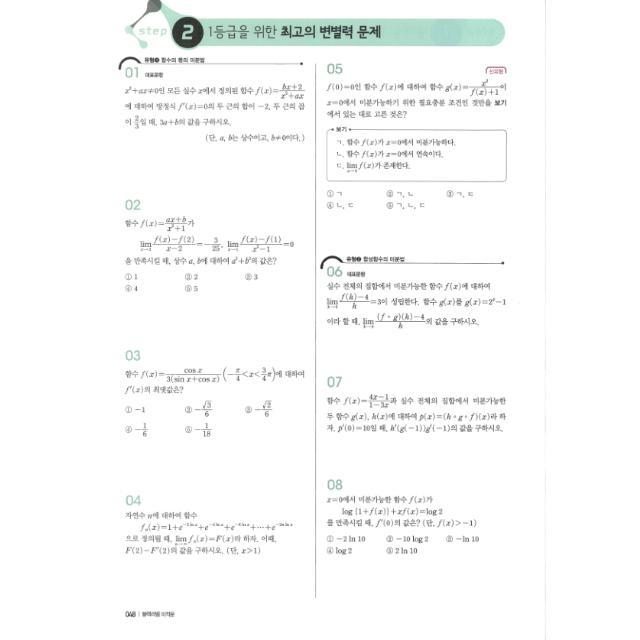multiple: (321, 54, 511, 216), (117, 193, 309, 297), (117, 343, 307, 443), (320, 472, 514, 560)
short: (110, 50, 308, 148), (318, 244, 514, 336), (116, 486, 308, 560), (321, 370, 514, 438)
